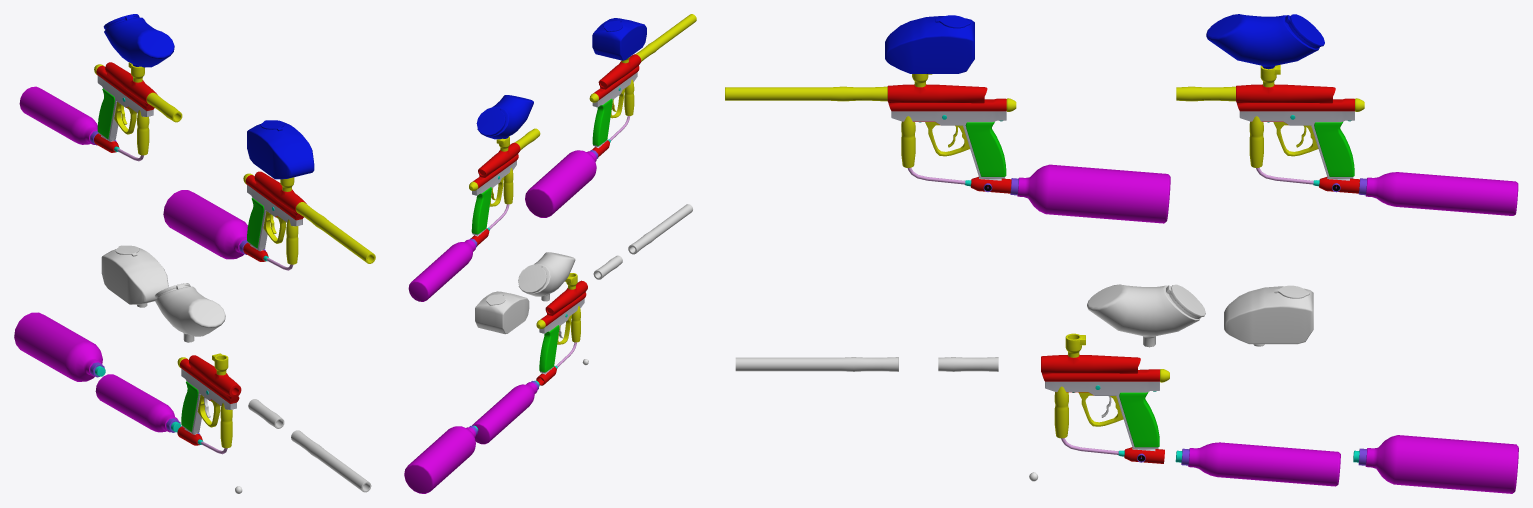
Rendered from PaintballGun.fbx.
3 renders of one model, left to right at view 1: azimuth 30°, elevation 25°; view 2: azimuth 150°, elevation 25°; view 3: azimuth 270°, elevation 25°, orthographic. The views are drawn at different scales.
Parts seen in each view (by area): view 1: PaintballGun_JoinedLong, PaintballGun_JoinedShort, PaintballGun_Base, PaintballGun_TankLarge, PaintballGun_HopperElectric, PaintballGun_Tank, PaintballGun_HopperGravity, PaintballGun_BarrelLong, PaintballGun_BarrelShort; view 2: PaintballGun_JoinedLong, PaintballGun_JoinedShort, PaintballGun_Base, PaintballGun_TankLarge, PaintballGun_Tank, PaintballGun_HopperElectric, PaintballGun_HopperGravity, PaintballGun_BarrelLong, PaintballGun_HopperLidGravity, PaintballGun_BarrelShort; view 3: PaintballGun_JoinedLong, PaintballGun_JoinedShort, PaintballGun_Base, PaintballGun_TankLarge, PaintballGun_Tank, PaintballGun_HopperElectric, PaintballGun_HopperGravity, PaintballGun_BarrelLong, PaintballGun_BarrelShort.
Boxes of the visible parts, box(x1,y1,x2,y2) form: PaintballGun_JoinedLong: box(163, 120, 375, 270); PaintballGun_JoinedShort: box(19, 14, 182, 161); PaintballGun_Base: box(177, 353, 241, 454); PaintballGun_TankLarge: box(14, 312, 105, 381); PaintballGun_HopperElectric: box(101, 247, 168, 307); PaintballGun_Tank: box(95, 374, 181, 432); PaintballGun_HopperGravity: box(155, 284, 225, 342); PaintballGun_BarrelLong: box(291, 430, 371, 492); PaintballGun_BarrelShort: box(248, 399, 284, 428); PaintballGun_JoinedLong: box(525, 14, 696, 217); PaintballGun_JoinedShort: box(408, 95, 540, 301); PaintballGun_Base: box(536, 273, 587, 385); PaintballGun_TankLarge: box(404, 425, 478, 493); PaintballGun_Tank: box(472, 380, 539, 444); PaintballGun_HopperElectric: box(475, 291, 529, 334); PaintballGun_HopperGravity: box(522, 252, 575, 301); PaintballGun_BarrelLong: box(628, 204, 692, 254); PaintballGun_HopperLidGravity: box(518, 265, 546, 292); PaintballGun_BarrelShort: box(593, 255, 622, 279); PaintballGun_JoinedLong: box(725, 15, 1170, 223); PaintballGun_JoinedShort: box(1176, 14, 1518, 215); PaintballGun_Base: box(1041, 333, 1169, 463); PaintballGun_TankLarge: box(1353, 435, 1518, 493); PaintballGun_Tank: box(1175, 442, 1340, 486); PaintballGun_HopperElectric: box(1224, 286, 1313, 346); PaintballGun_HopperGravity: box(1087, 284, 1200, 347); PaintballGun_BarrelLong: box(735, 357, 898, 371); PaintballGun_BarrelShort: box(938, 357, 998, 371).
Bounding box in the file's own units: 11.56 × 122 × 184.
